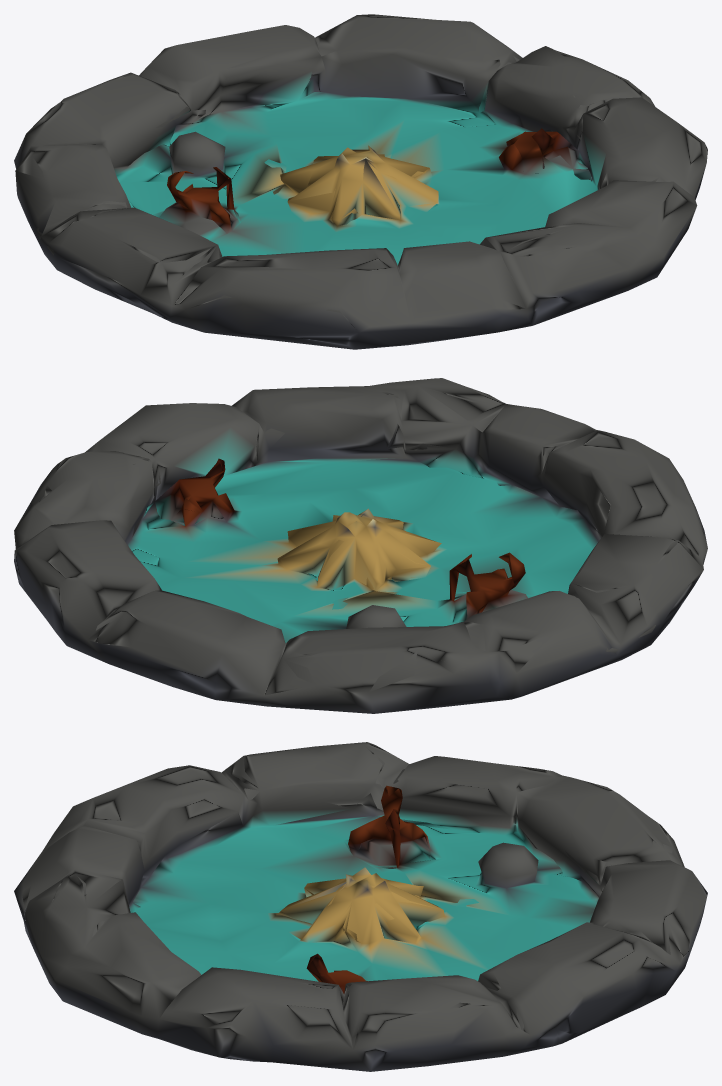
File: gen3d-rock-pool-lod0.glb
The picture shows the model from 3 angles, top to bottom: view 1: azimuth 30°, elevation 25°; view 2: azimuth 150°, elevation 25°; view 3: azimuth 270°, elevation 25°; orthographic projection.
Visible parts, largest first — view 1: part_0; view 2: part_0; view 3: part_0.
Part boxes in pixels (x1,y1,x2,y2): part_0: (14,14,707,349); part_0: (14,378,707,713); part_0: (14,742,707,1071).
Bounding box in the file's own units: 9.47 × 0.9794 × 9.47.
